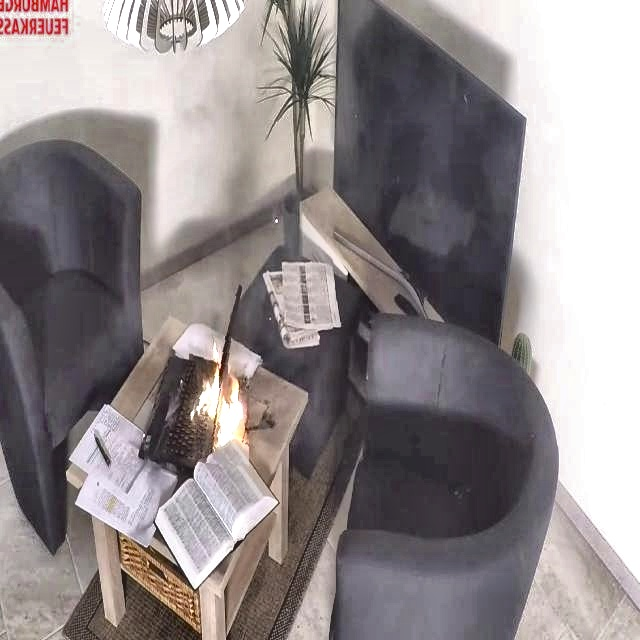fire: (184, 334, 268, 464)
